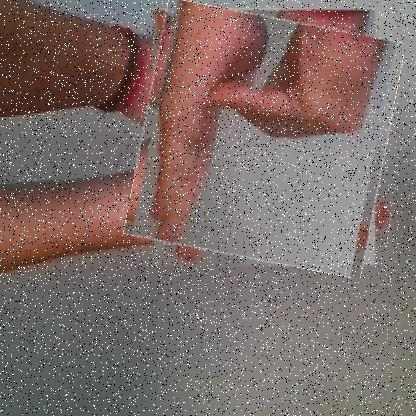Z: (134, 8, 395, 268)
